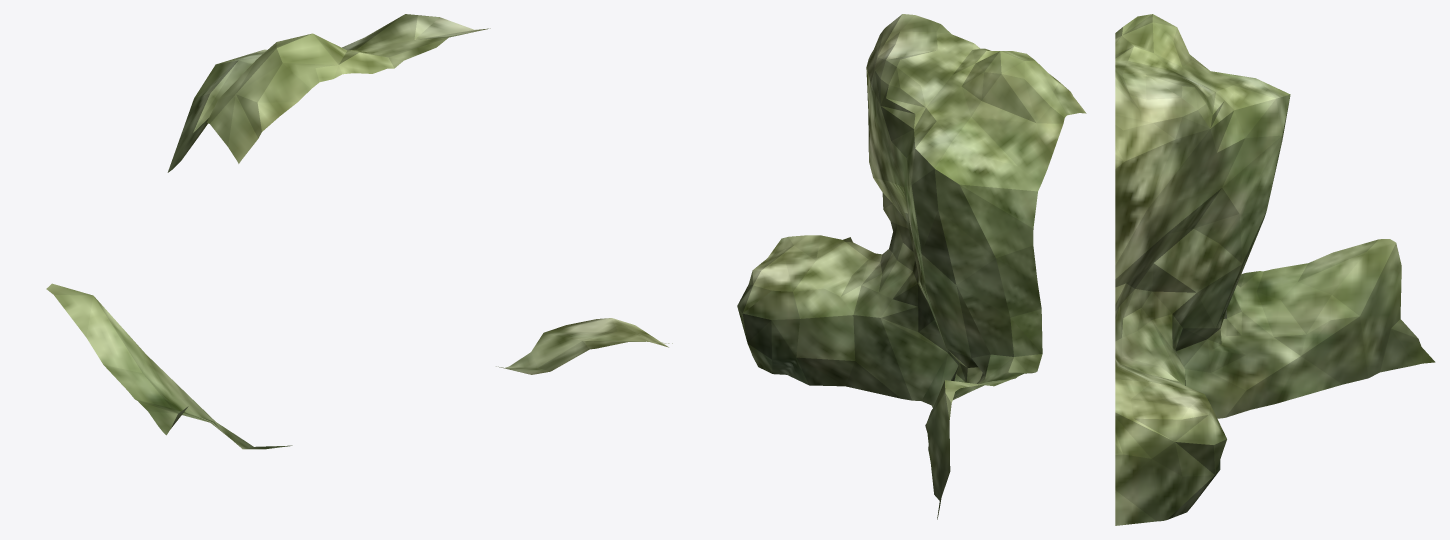
The picture shows the model from 3 angles, left to right: view 1: azimuth 30°, elevation 25°; view 2: azimuth 150°, elevation 25°; view 3: azimuth 270°, elevation 25°; orthographic projection. The views are drawn at different scales.
Size of the model in its own units: 1.01 by 1.08 by 0.8373.
1 material, 1 textured.
